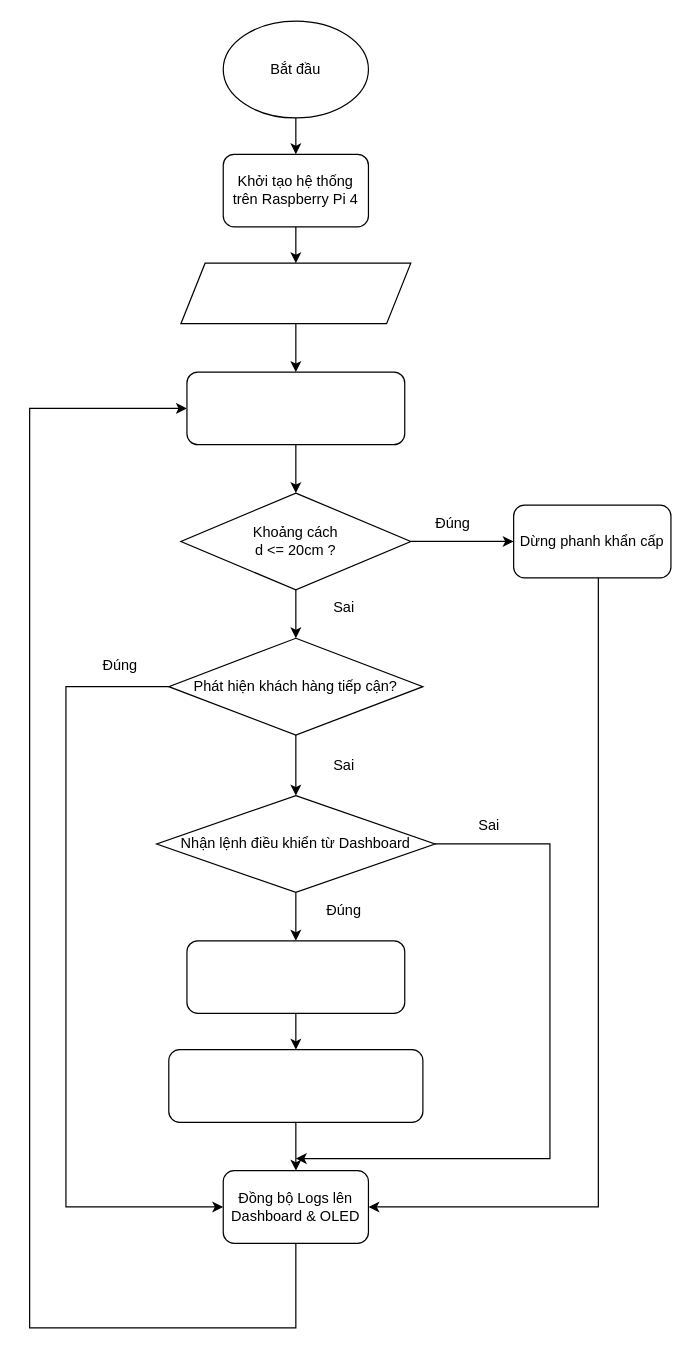
This 692x1359 diagram has some shape labels left out. Here are the shapes that lost their labels. From the top down, the centre of each, then its label:
(x=295, y=293): Hiển thị mã QR động trên OLED 1.3"
(x=295, y=408): Thu thập dữ liệu ngoại vi theo chu kì 50ms
(x=295, y=976): Giải mã yêu cầu điều khiển 4 bánh Mecanum
(x=295, y=1085): Xuất xung PWM và Logic điều khiển
